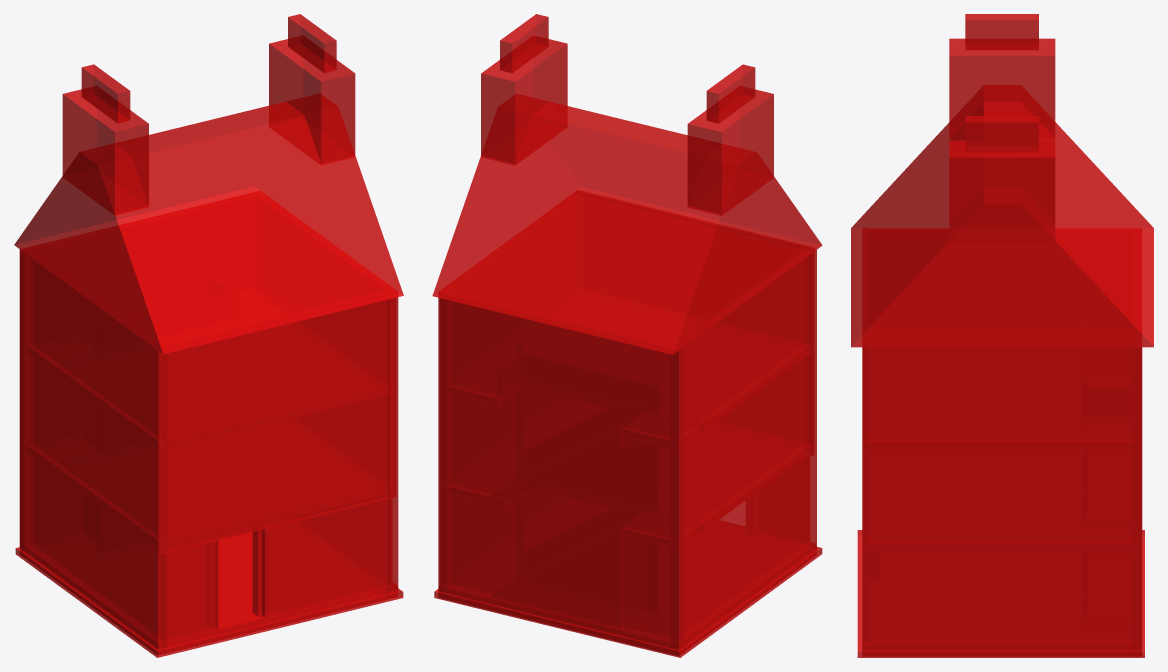
Rendered from SM_Bld_City_Preset_02_Collision.fbx.
3 views of the same model, side by side, from view 1: azimuth 30°, elevation 25°; view 2: azimuth 150°, elevation 25°; view 3: azimuth 270°, elevation 25° (orthographic).
Visible parts, largest first — view 1: SM_Bld_City_Preset_02_Collision; view 2: SM_Bld_City_Preset_02_Collision; view 3: SM_Bld_City_Preset_02_Collision.
Part boxes in pixels (x1,y1,x2,y2): SM_Bld_City_Preset_02_Collision: (14, 14, 403, 657); SM_Bld_City_Preset_02_Collision: (432, 14, 822, 657); SM_Bld_City_Preset_02_Collision: (851, 14, 1153, 657).
Bounding box in the file's own units: 776 × 1574 × 817.
